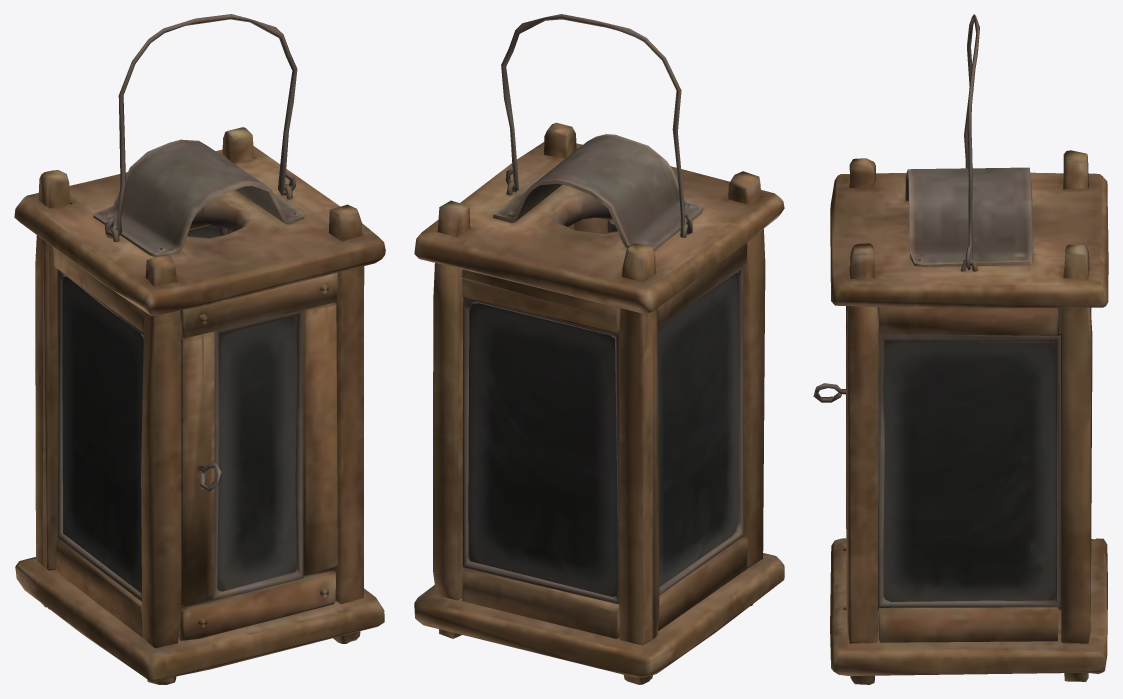
File: lantern.glb
The picture shows the model from 3 angles, left to right: view 1: azimuth 30°, elevation 25°; view 2: azimuth 150°, elevation 25°; view 3: azimuth 270°, elevation 25°; orthographic projection.
Parts seen in each view (by area): view 1: wooden_lantern_01; view 2: wooden_lantern_01; view 3: wooden_lantern_01.
Boxes of the visible parts, bbox=[...] form: wooden_lantern_01: bbox=[14, 14, 385, 684]; wooden_lantern_01: bbox=[414, 14, 784, 684]; wooden_lantern_01: bbox=[813, 14, 1108, 684].
Size of the model in its own units: 0.221 by 0.5296 by 0.2341.
Materials: 2 (2 with a texture image).
